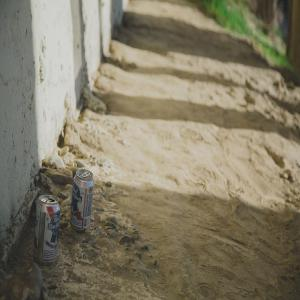Can: (34, 194, 63, 269), (69, 167, 97, 234)
